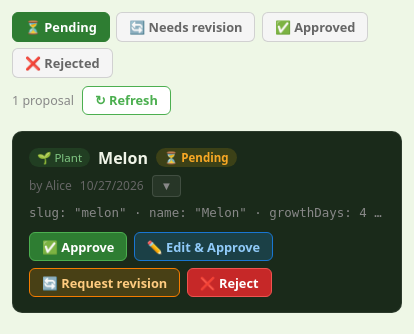
Test: ProposalsPanel — actions › shows revision note input when Request revision is clicked
Step 1. Click the button "🔄 Request revision" → (105, 282), box [29,268,180,297]
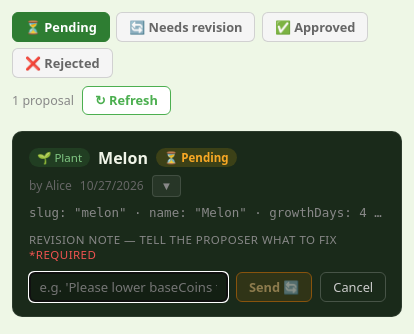
expect the field with placeholder "e.g. 'Please lower baseCoins to max 20'" is shown: met, box [29,272,228,302]
